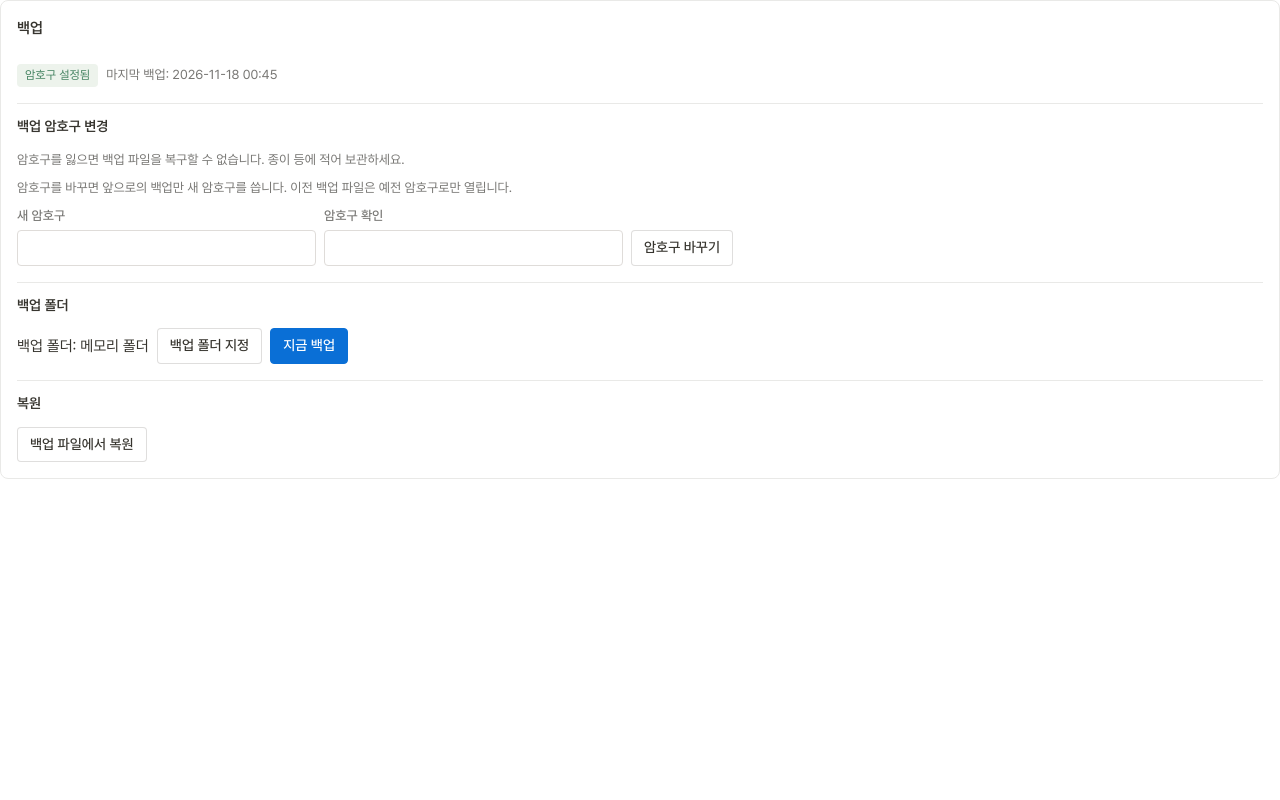
Test case: 틀린 암호구로 복원 → BackupDecryptError 문구 표시
Click the button "백업 파일에서 복원" at (82,445), box left=17, top=427, right=147, bottom=462
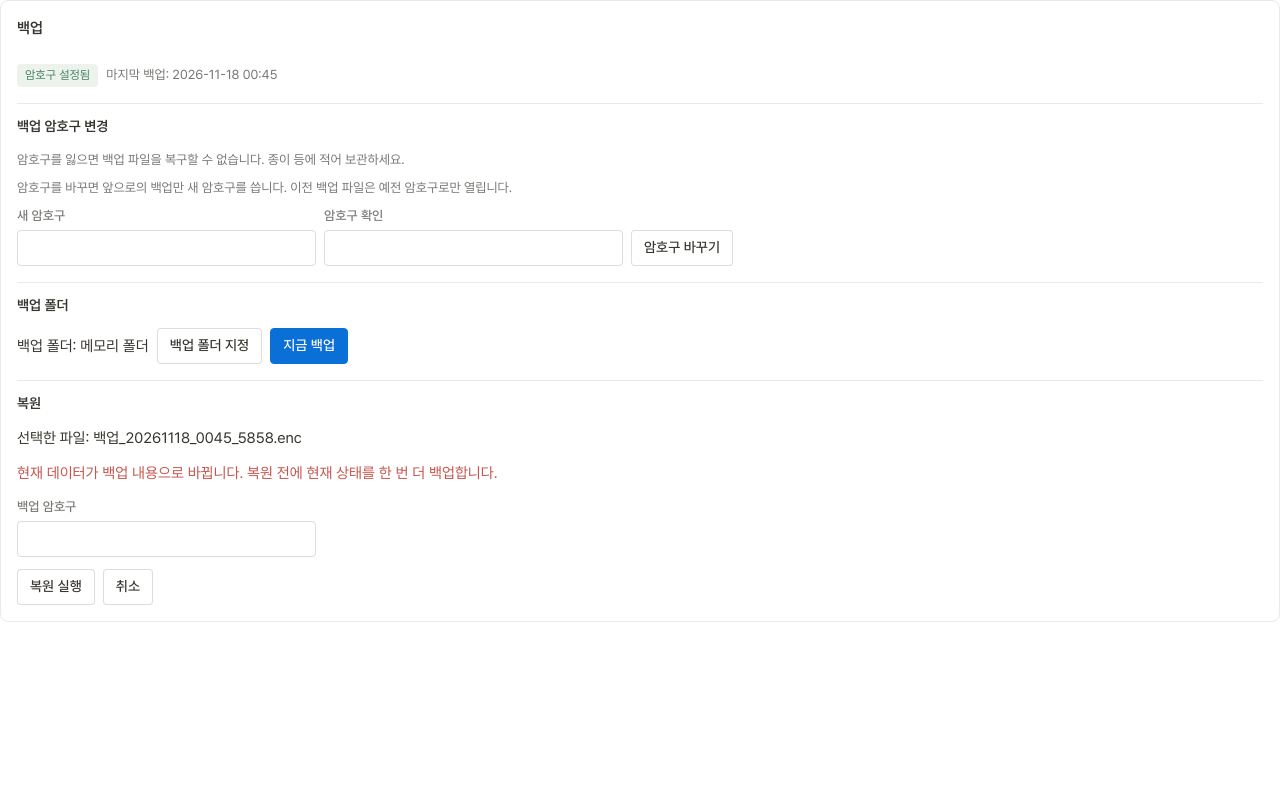
Now the text "현재 데이터가 백업 내용으로 바뀝니다. 복원 전에 현재 상태를 한 번 더 백업합니다." is shown, box left=17, top=462, right=498, bottom=485
Type "틀린암호구입니다" into the password field labelled "백업 암호구" at (166,539), box left=17, top=521, right=316, bottom=557
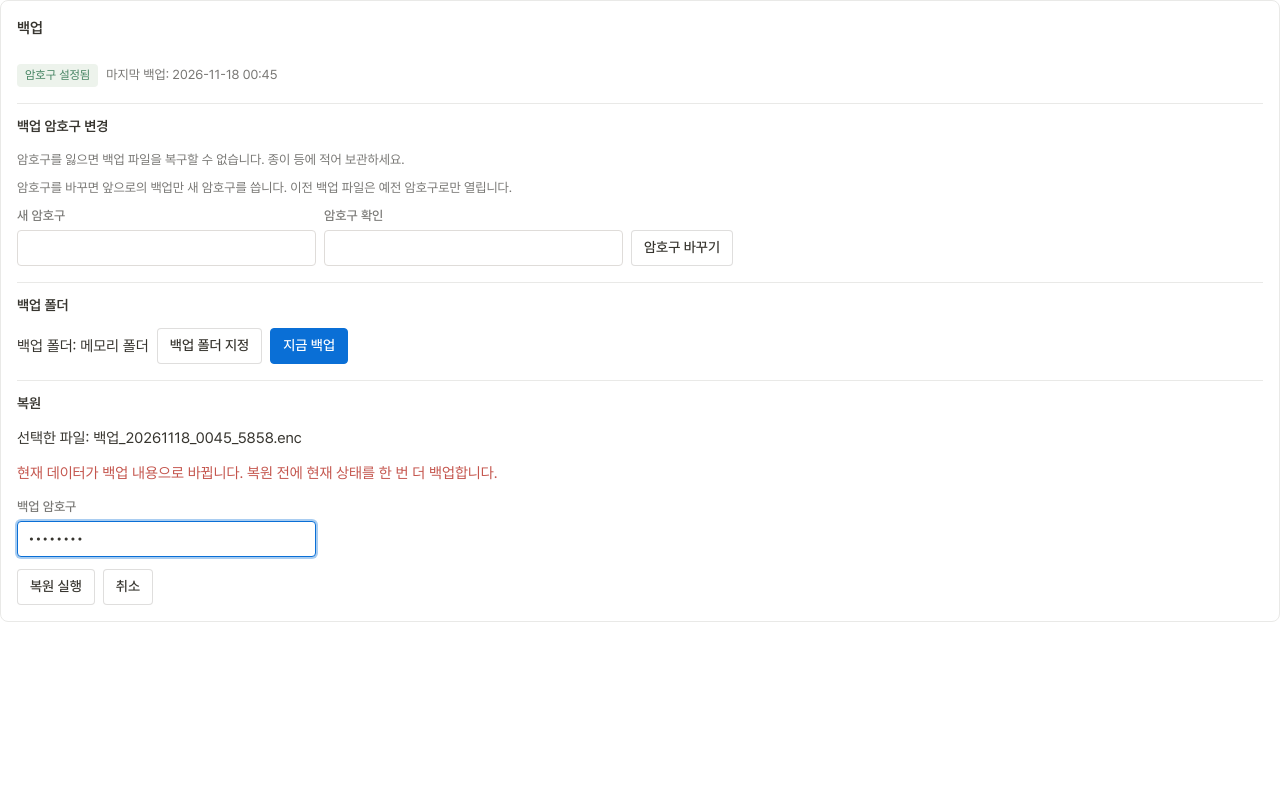
Click the button "복원 실행" at (56,587), box left=17, top=569, right=95, bottom=605
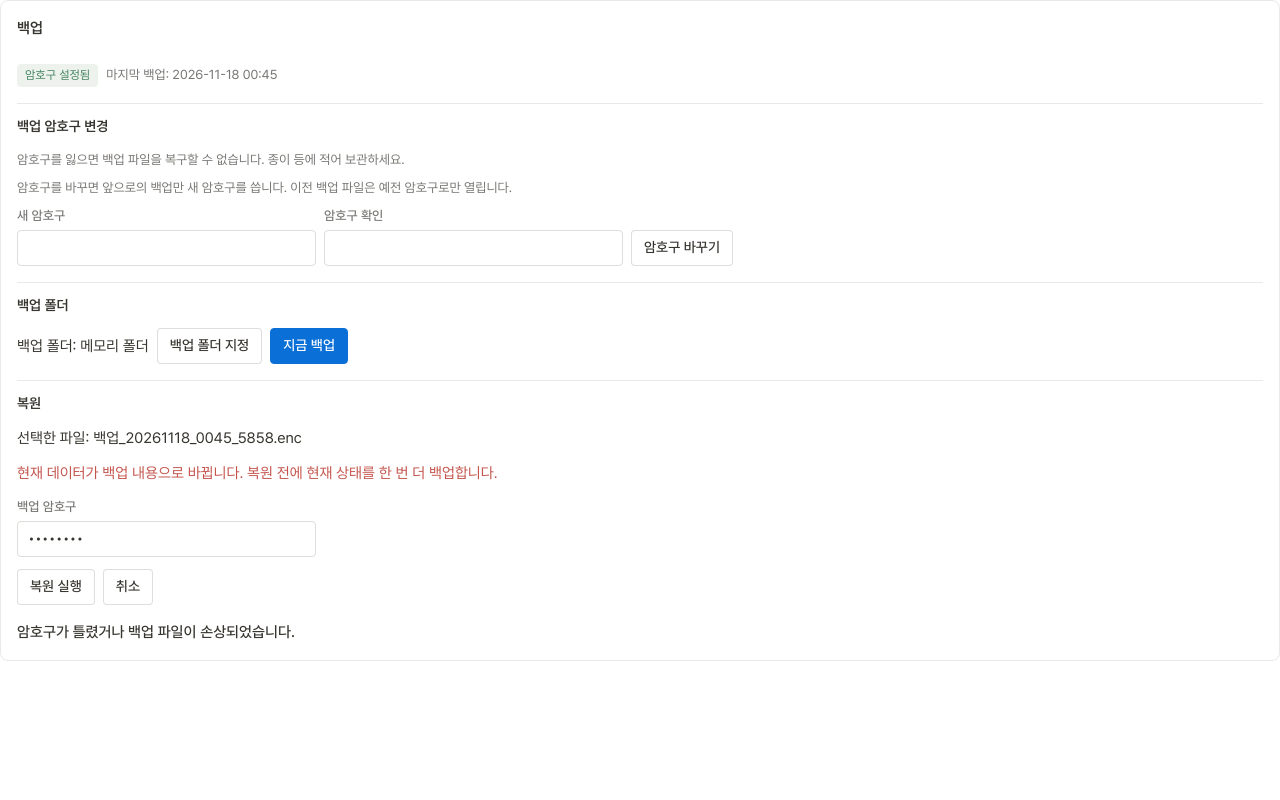
Now the text "암호구가 틀렸거나 백업 파일이 손상되었습니다." is shown, box left=17, top=621, right=295, bottom=644
